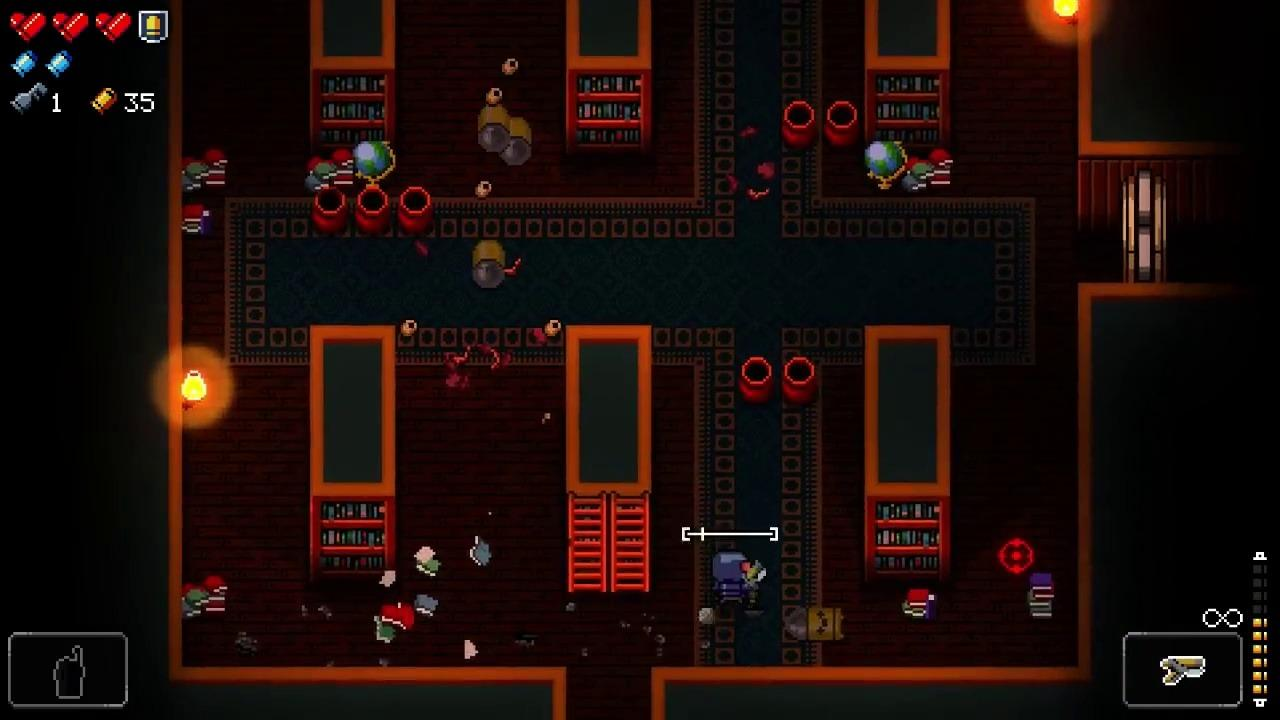dead_bullet_kin: (783, 606, 844, 642), (477, 103, 513, 154), (498, 117, 532, 167), (472, 240, 505, 290)
enemy_spawn: (999, 538, 1036, 577)
locked_door: (1121, 170, 1167, 282)
player: (710, 549, 748, 608)
